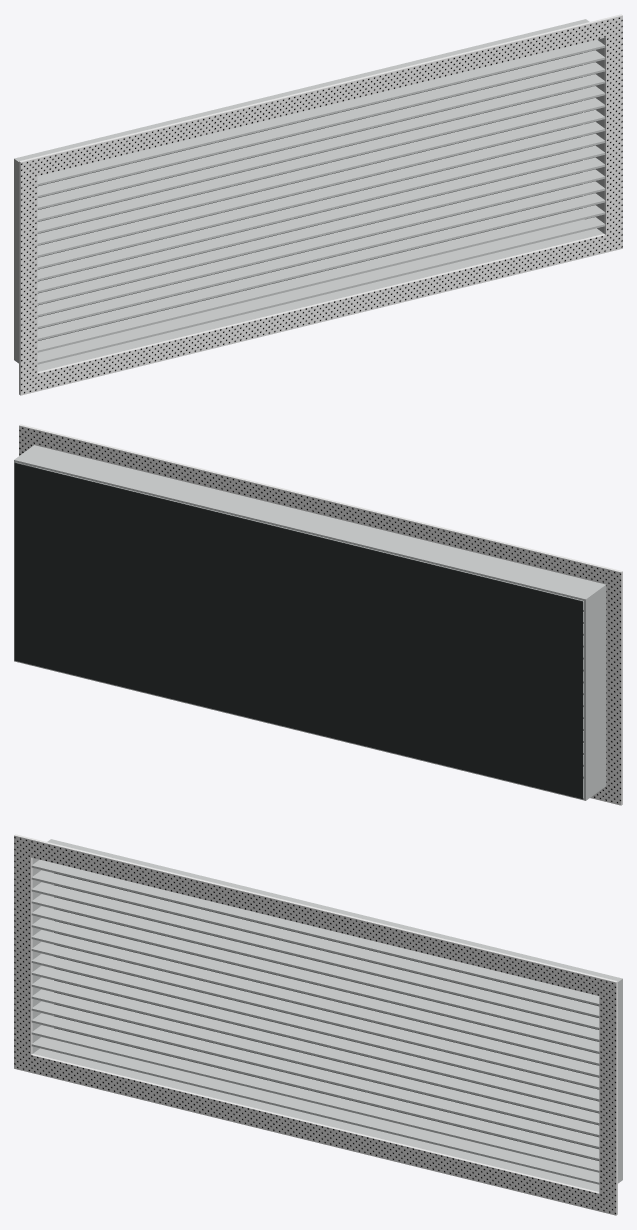
The model's file is ecoclima-ebls-600x200.glb.
The picture shows the model from 3 angles, top to bottom: view 1: azimuth 30°, elevation 25°; view 2: azimuth 150°, elevation 25°; view 3: azimuth 330°, elevation 25°; orthographic projection.
Parts seen in each view (by area): view 1: Profile_cornice.004, Profile_cornice.005, Interno.001, Profile_barra.011, Profile_barra.014, Profile_barra.020, Profile_barra.022, Profile_barra.021, Profile_barra.024, Profile_barra.013, Profile_barra.017, Profile_barra.018 (+13 smaller); view 2: Interno.001, Profile_ritorno.004, Profile_cornice.004, Profile_ritorno.006, Profile_cornice.006, Profile_ritorno.005, Profile_barra.024; view 3: Profile_cornice.004, Profile_cornice.005, Interno.001, Profile_barra.011, Profile_barra.014, Profile_barra.020, Profile_barra.022, Profile_barra.021, Profile_barra.024, Profile_barra.013, Profile_barra.017, Profile_barra.018 (+13 smaller).
Boxes of the visible parts, left/top/right/bottom form: Profile_cornice.004: left=19, top=14, right=622, bottom=179; Profile_cornice.005: left=19, top=231, right=622, bottom=395; Interno.001: left=38, top=53, right=582, bottom=340; Profile_barra.011: left=37, top=205, right=605, bottom=352; Profile_barra.014: left=37, top=169, right=605, bottom=316; Profile_barra.020: left=37, top=98, right=605, bottom=245; Profile_barra.022: left=37, top=74, right=605, bottom=221; Profile_barra.021: left=37, top=86, right=605, bottom=233; Profile_barra.024: left=37, top=50, right=605, bottom=197; Profile_barra.013: left=37, top=181, right=605, bottom=328; Profile_barra.017: left=37, top=133, right=605, bottom=280; Profile_barra.018: left=37, top=121, right=605, bottom=269; Interno.001: left=14, top=463, right=583, bottom=799; Profile_ritorno.004: left=14, top=445, right=606, bottom=601; Profile_cornice.004: left=19, top=424, right=622, bottom=590; Profile_ritorno.006: left=584, top=587, right=606, bottom=798; Profile_cornice.006: left=606, top=586, right=622, bottom=787; Profile_ritorno.005: left=14, top=659, right=606, bottom=800; Profile_barra.024: left=36, top=467, right=583, bottom=611; Profile_cornice.004: left=14, top=834, right=617, bottom=999; Profile_cornice.005: left=14, top=1051, right=617, bottom=1215; Interno.001: left=54, top=873, right=598, bottom=1160; Profile_barra.011: left=31, top=1025, right=599, bottom=1172; Profile_barra.014: left=31, top=989, right=599, bottom=1136; Profile_barra.020: left=31, top=918, right=599, bottom=1065; Profile_barra.022: left=31, top=894, right=599, bottom=1041; Profile_barra.021: left=31, top=906, right=599, bottom=1053; Profile_barra.024: left=31, top=870, right=599, bottom=1017; Profile_barra.013: left=31, top=1001, right=599, bottom=1148; Profile_barra.017: left=31, top=953, right=599, bottom=1100; Profile_barra.018: left=31, top=941, right=599, bottom=1089.
Size of the model in its own units: 0.635 by 0.235 by 0.042.
Materials: 3 (1 with a texture image).
